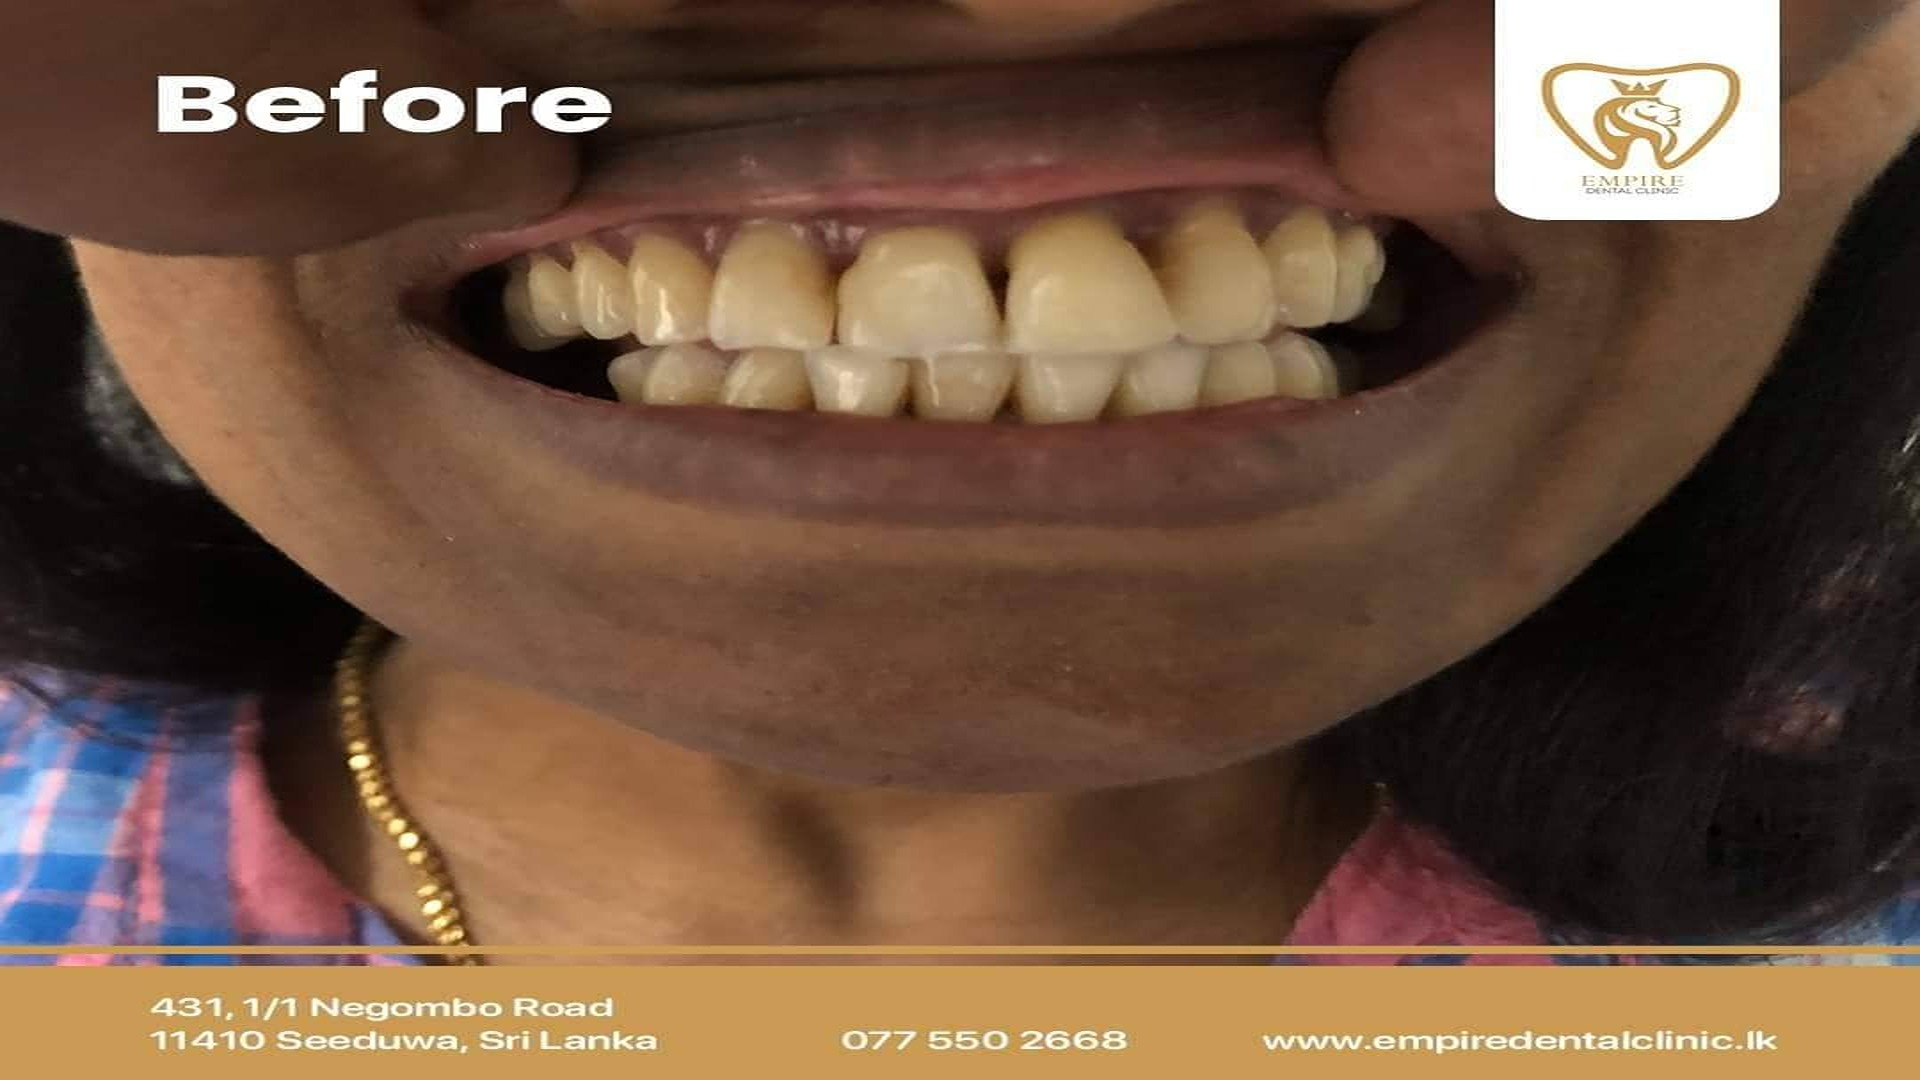tooth: (1002, 210, 1176, 353), (836, 225, 1001, 355), (1131, 208, 1276, 344), (707, 222, 833, 349), (626, 232, 713, 345), (1267, 210, 1346, 328), (1010, 352, 1122, 423), (910, 352, 1011, 423), (807, 345, 910, 415), (607, 345, 725, 405), (574, 243, 638, 340), (1122, 338, 1209, 409), (1258, 331, 1338, 400), (731, 349, 814, 410), (529, 255, 583, 338), (1205, 342, 1276, 404)
